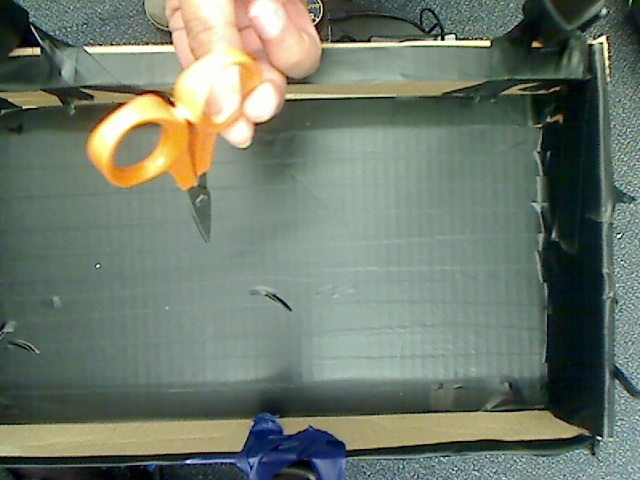scissors: (84, 25, 276, 259)
